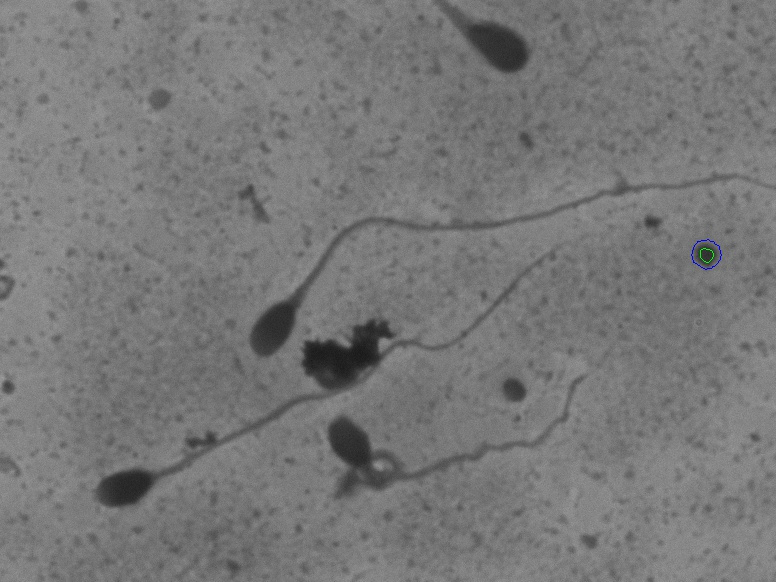Abnormal: (327, 412, 561, 504)
Normal: (83, 241, 580, 521), (215, 160, 752, 373)
